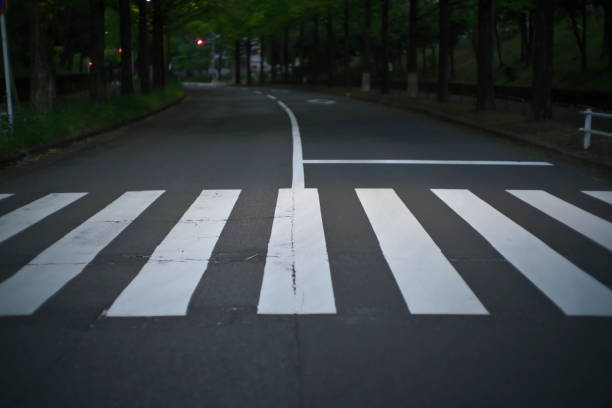zebracross: (6, 192, 598, 323)
